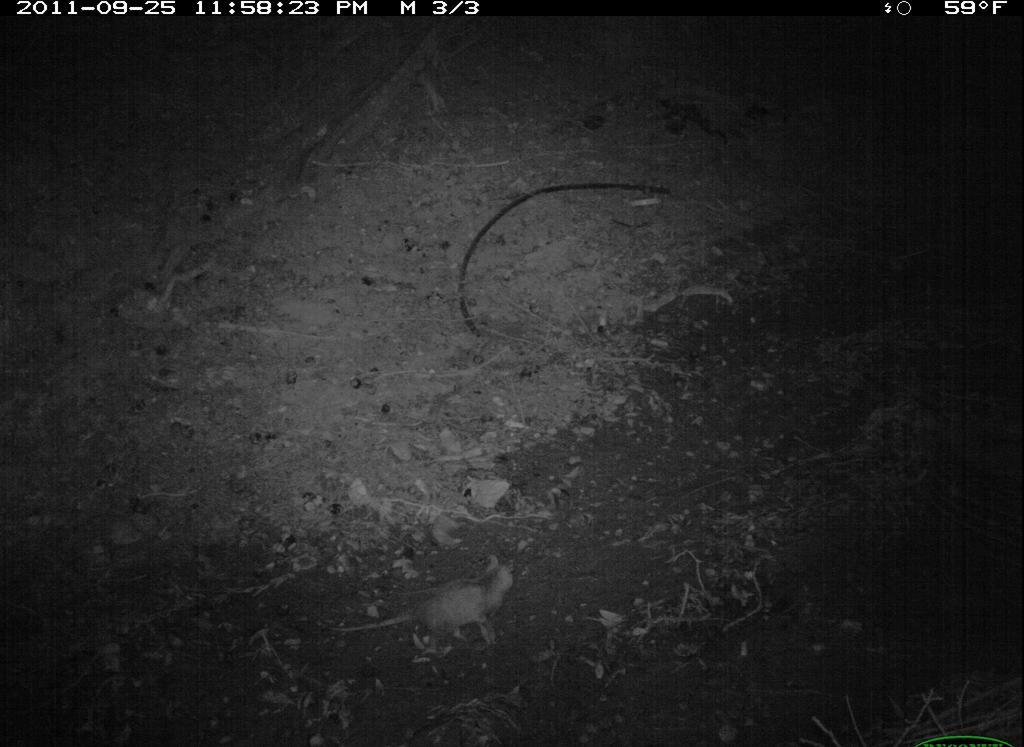opossum: (364, 555, 526, 660)
